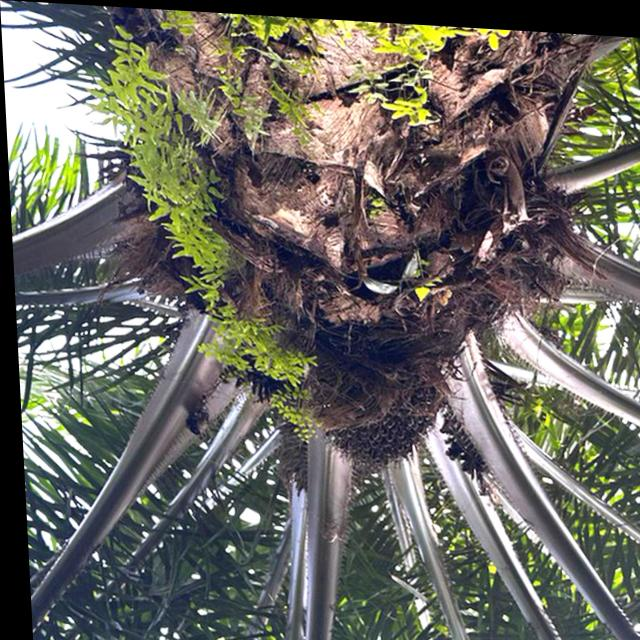almost: (307, 366, 438, 474)
